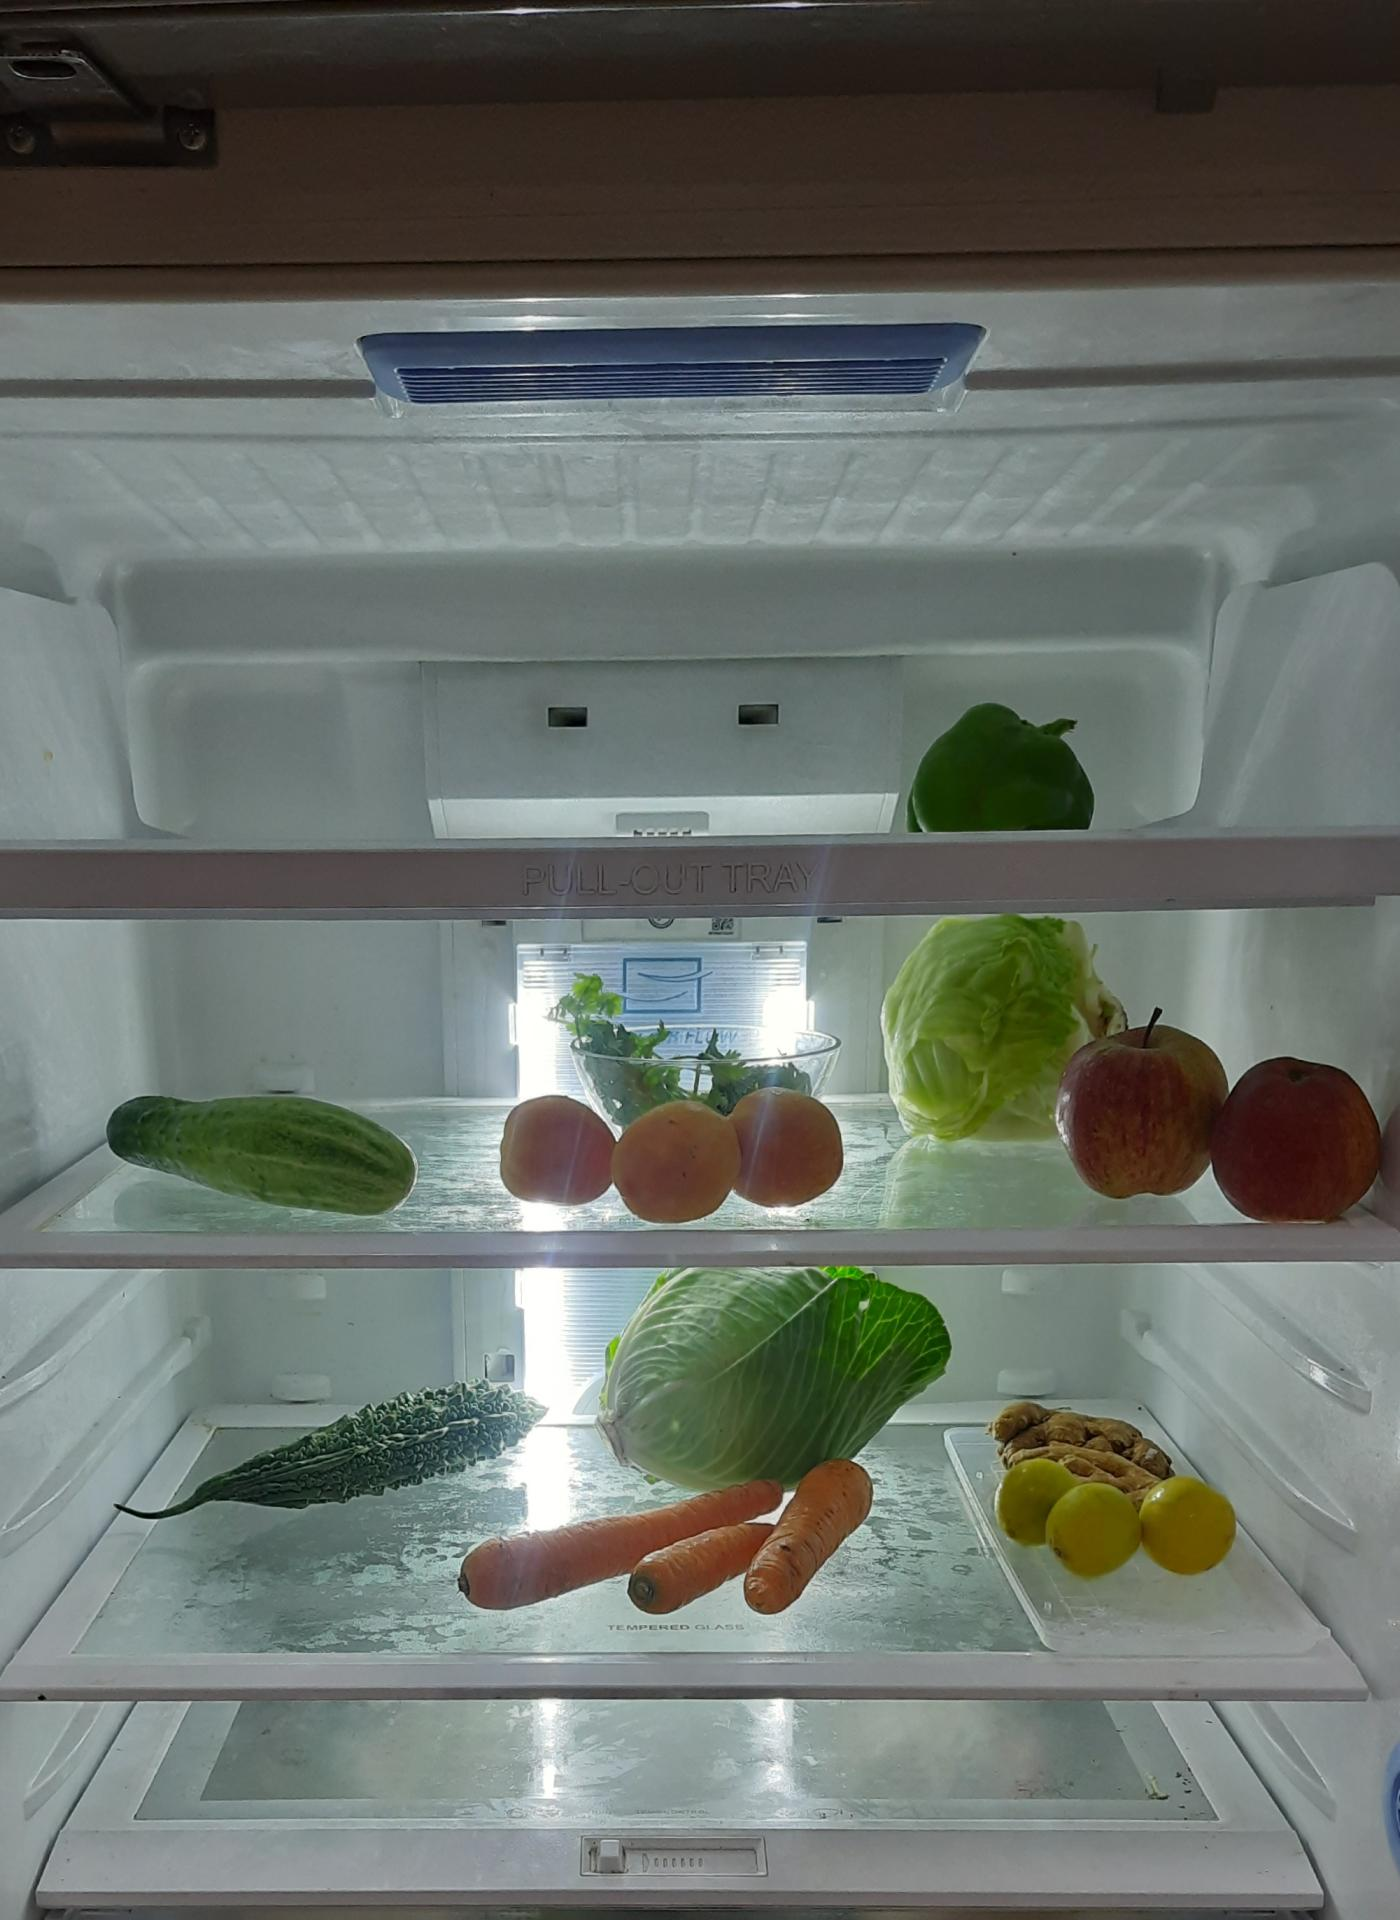apple: (1057, 999, 1376, 1231)
bitter gourd: (116, 1379, 544, 1531)
capsicum: (904, 695, 1103, 832)
carrots: (449, 1479, 881, 1635)
coriander: (547, 969, 819, 1094)
cucumber: (94, 1084, 426, 1212)
ginger: (999, 1394, 1179, 1468)
lemon: (994, 1468, 1240, 1595)
lettuce: (878, 914, 1109, 1142)
tomato: (501, 1076, 850, 1228)
